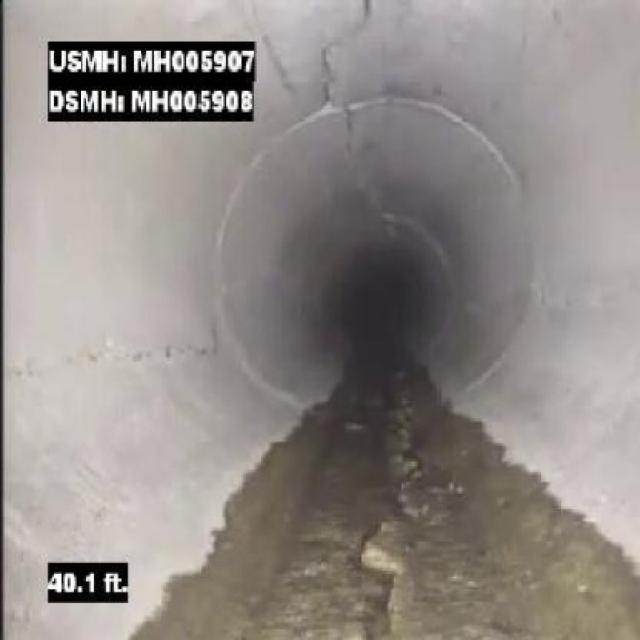Crack: (352, 400, 457, 635), (5, 316, 242, 384), (296, 3, 386, 102), (537, 277, 615, 309)
